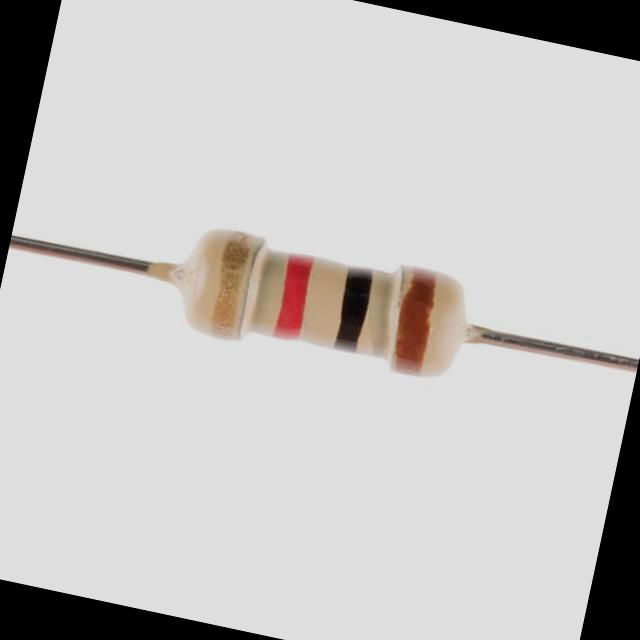Resistor: (172, 231, 467, 374)
black: (334, 262, 375, 357)
brown: (393, 273, 435, 377)
gold: (206, 231, 249, 349)
red: (273, 253, 309, 345)
